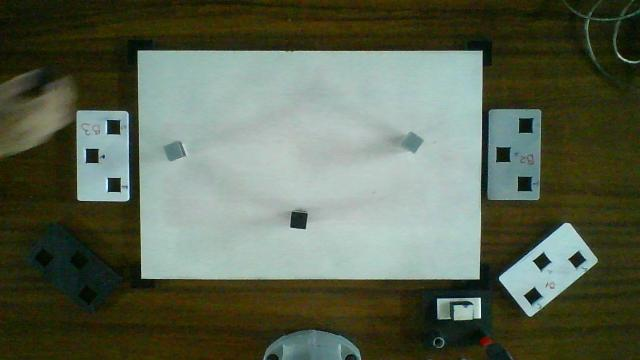peca_cinza: (399, 132, 426, 152), (163, 142, 183, 160)
peca_preta: (290, 212, 308, 229)
